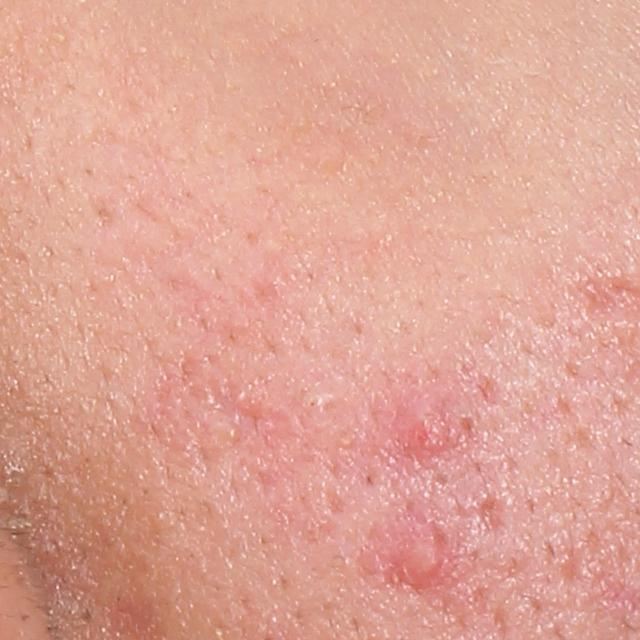papule: (388, 522, 451, 588), (401, 406, 456, 456)
